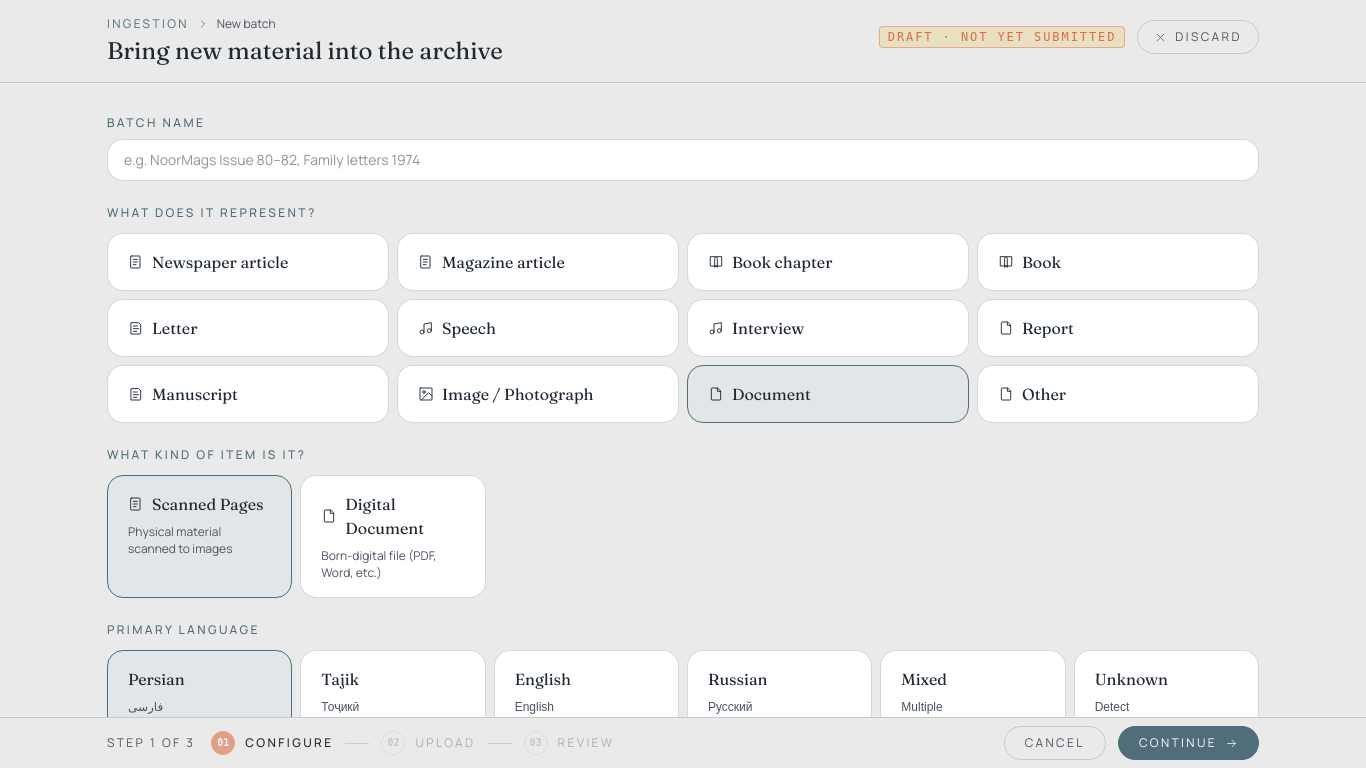
Test: /ingestion/new +page.svelte localization › enables the exact preset set for video
Click the button "Other" at (1044, 394), box [977, 365, 1259, 423]
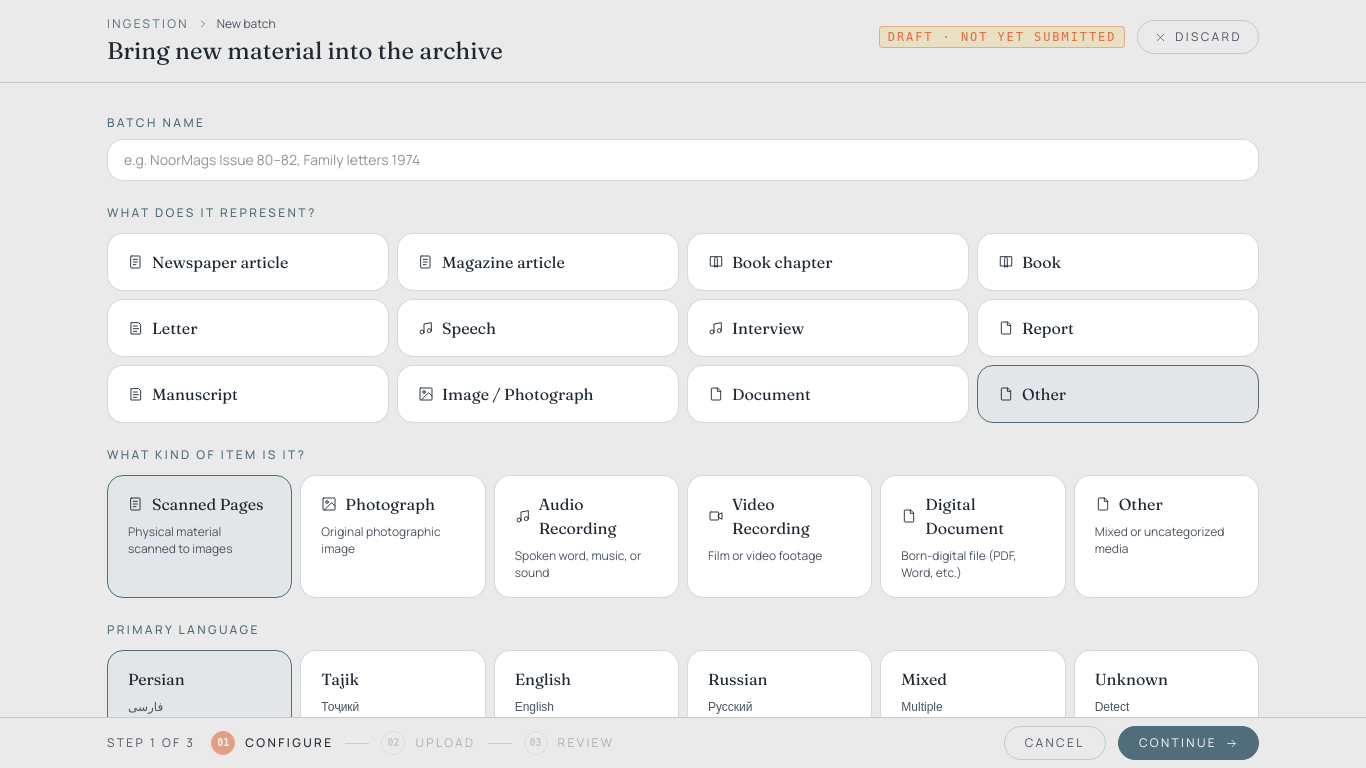
Click the text "Video Recording" at (771, 516), box [732, 494, 810, 538]
(page scrolled)
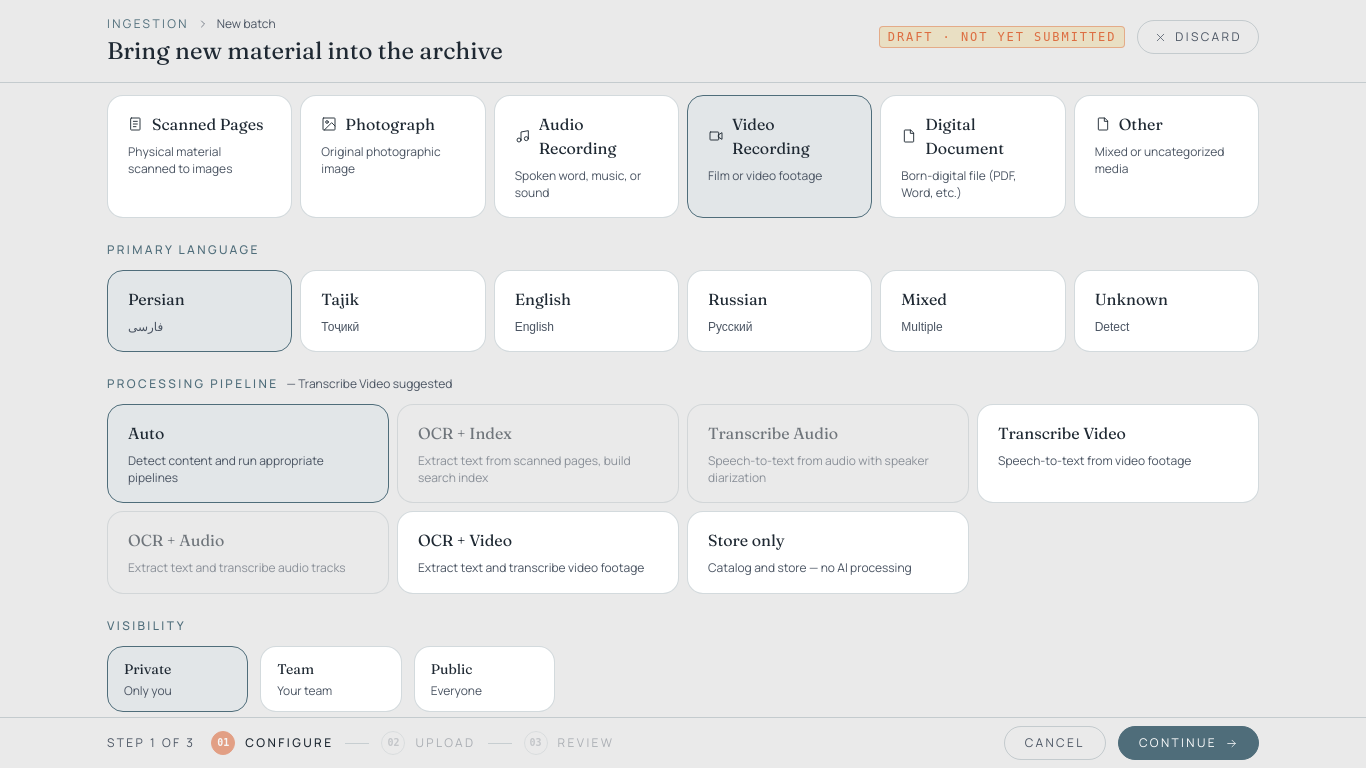
Now the button that starts with "OCR + Index" is disabled, box [397, 404, 679, 503]
Now the button "Transcribe Video Speech-to-text from video footage" is enabled, box [977, 404, 1259, 503]
Now the button "OCR + Video Extract text and transcribe video footage" is enabled, box [397, 511, 679, 594]
